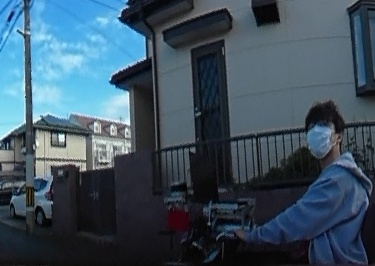person: (259, 104, 375, 266)
